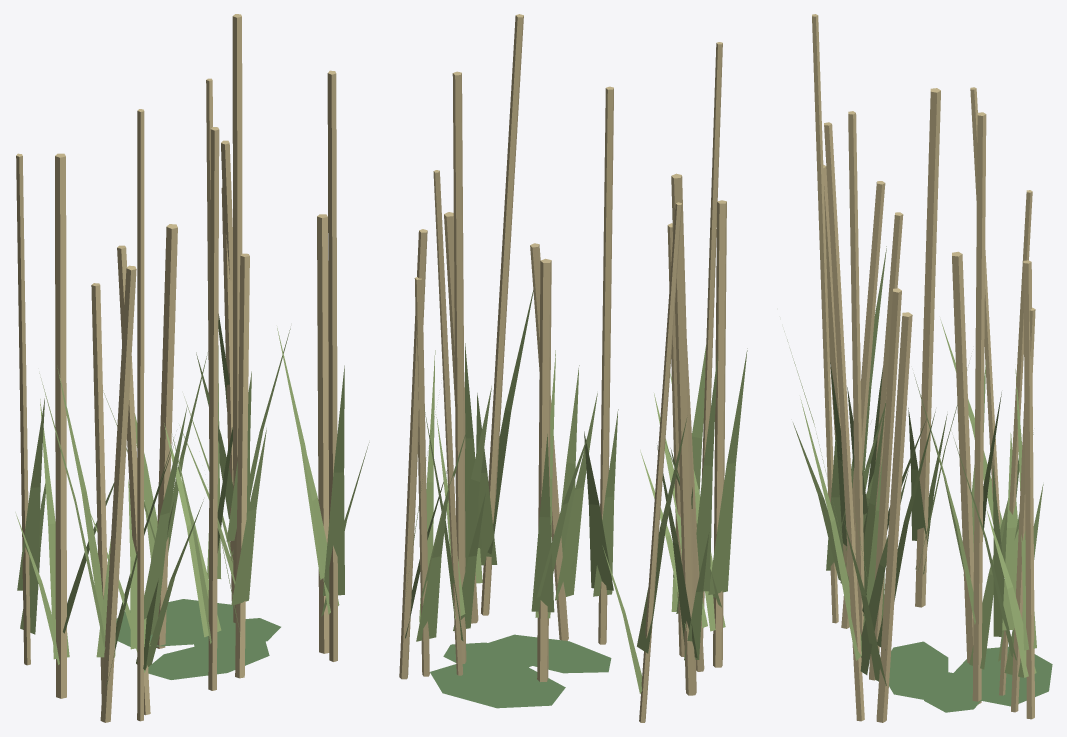
The model's file is edge_reeds_cluster_b.glb.
3 views of the same model, side by side, from view 1: azimuth 30°, elevation 25°; view 2: azimuth 150°, elevation 25°; view 3: azimuth 270°, elevation 25° (orthographic). The views are drawn at different scales.
Visible parts, largest first — view 1: edge_reeds_cluster_b; view 2: edge_reeds_cluster_b; view 3: edge_reeds_cluster_b.
Part boxes in pixels (left/top/right/bottom): edge_reeds_cluster_b: left=15, top=14, right=369, bottom=722; edge_reeds_cluster_b: left=399, top=14, right=747, bottom=722; edge_reeds_cluster_b: left=784, top=14, right=1052, bottom=722.
Size of the model in its own units: 0.6353 by 1.21 by 0.5049.
